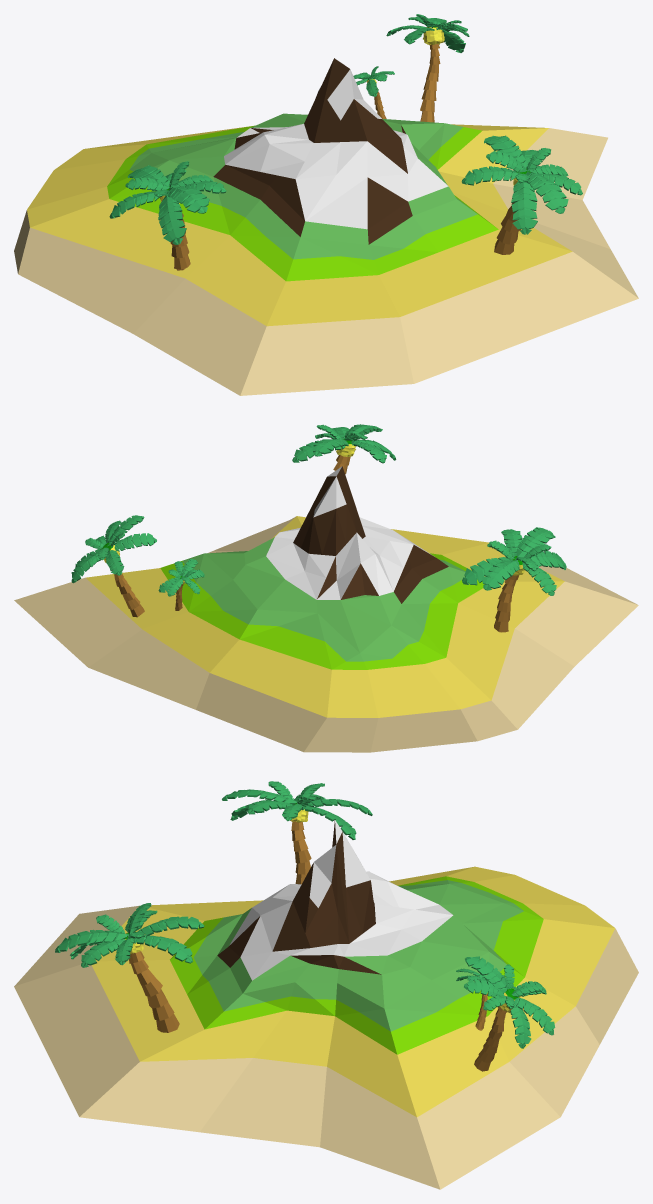
The model's file is island.fbx.
3 renders of one model, top to bottom at view 1: azimuth 30°, elevation 25°; view 2: azimuth 150°, elevation 25°; view 3: azimuth 270°, elevation 25°, orthographic. The views are drawn at different scales.
Parts seen in each view (by area): view 1: Cube, Plane.002, Plane, Plane.001, Trunk.001, Trunk.002; view 2: Cube, Plane, Plane.001, Plane.002, Plane.003, Trunk, Trunk.001; view 3: Cube, Plane.002, Plane.001, Plane, Trunk.002, Trunk.001, Trunk.
Part boxes in pixels (box(x1,y1,x2,y2)): Cube: box(14, 58, 638, 395); Plane.002: box(461, 135, 582, 234); Plane: box(109, 161, 226, 244); Plane.001: box(386, 14, 469, 52); Trunk.001: box(420, 44, 440, 122); Trunk.002: box(494, 202, 520, 254); Cube: box(14, 466, 638, 752); Plane: box(462, 527, 566, 595); Plane.001: box(71, 515, 156, 583); Plane.002: box(292, 424, 396, 463); Plane.003: box(158, 559, 204, 596); Trunk: box(494, 575, 519, 632); Trunk.001: box(112, 570, 144, 617); Cube: box(14, 820, 638, 1189); Plane.002: box(55, 903, 204, 967); Plane.001: box(464, 956, 555, 1048); Plane: box(222, 781, 372, 839); Trunk.002: box(129, 951, 179, 1032); Trunk.001: box(474, 1006, 506, 1071); Trunk: box(291, 821, 311, 884).
Size of the model in its own units: 18494 by 5931 by 16423.
